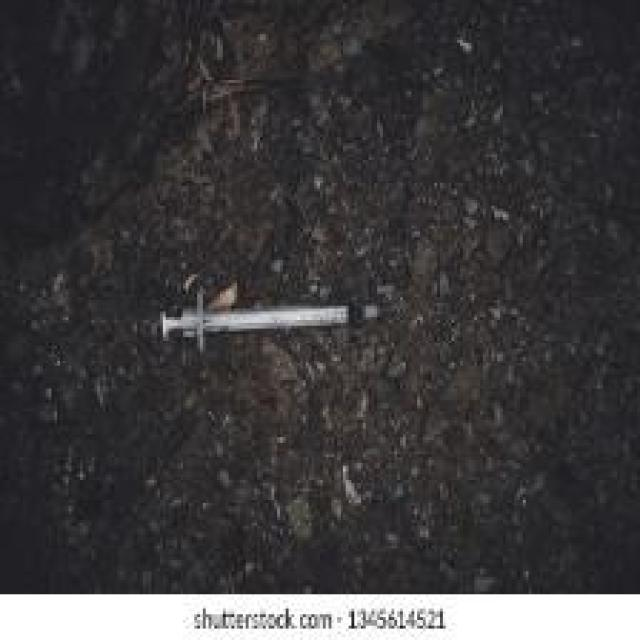syringe: (158, 292, 384, 364)
